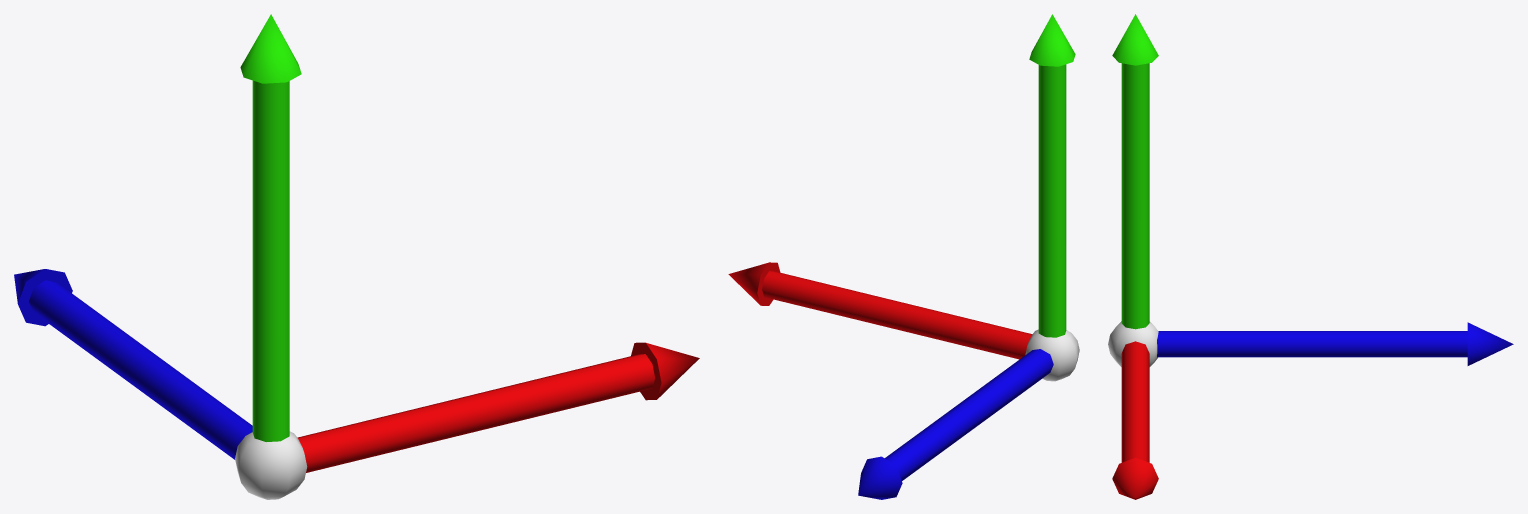
The model's file is gizmo.fbx.
3 renders of one model, left to right at view 1: azimuth 30°, elevation 25°; view 2: azimuth 150°, elevation 25°; view 3: azimuth 270°, elevation 25°, orthographic. The views are drawn at different scales.
Parts seen in each view (by area): view 1: gizmo; view 2: gizmo; view 3: gizmo.
Part boxes in pixels (bbox=[...]): gizmo: bbox=[14, 14, 699, 499]; gizmo: bbox=[728, 14, 1079, 499]; gizmo: bbox=[1108, 14, 1513, 499].
Size of the model in its own units: 39.8 by 39.8 by 41.22.
